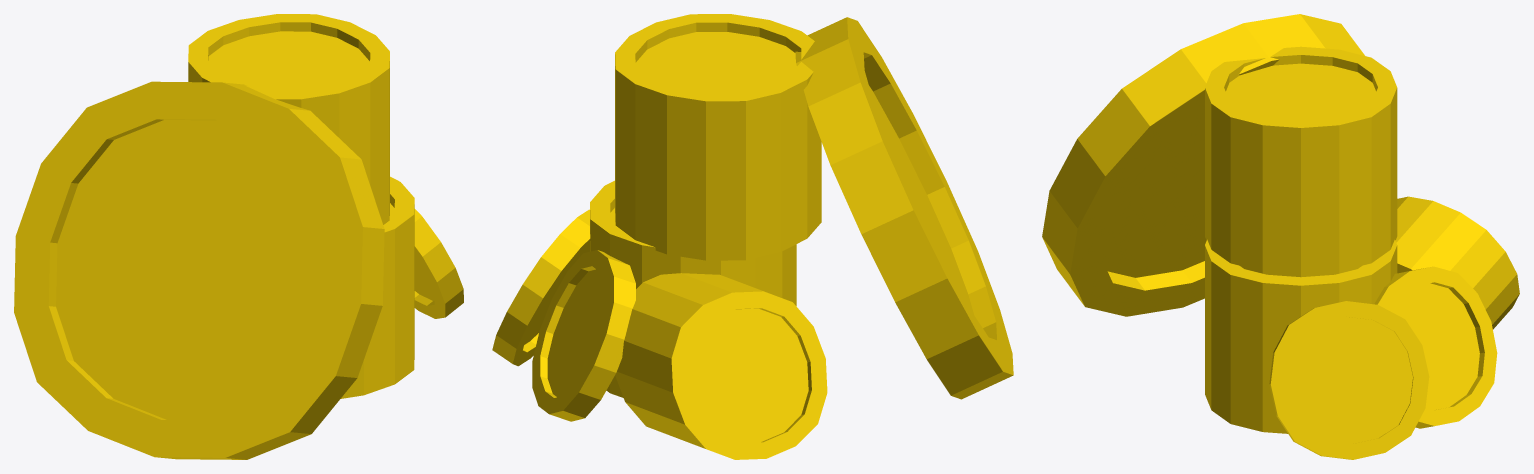
The model's file is MoneyPile.fbx.
3 views of the same model, side by side, from view 1: azimuth 30°, elevation 25°; view 2: azimuth 150°, elevation 25°; view 3: azimuth 270°, elevation 25° (orthographic). The views are drawn at different scales.
Parts seen in each view (by area): view 1: MoneyPile; view 2: MoneyPile; view 3: MoneyPile.
Boxes of the visible parts, x1,y1,x2,y2 form: MoneyPile: (14, 14, 463, 459); MoneyPile: (492, 14, 1013, 459); MoneyPile: (1042, 14, 1519, 459).
Size of the model in its own units: 251 by 182 by 246.
1 material, 1 textured.
